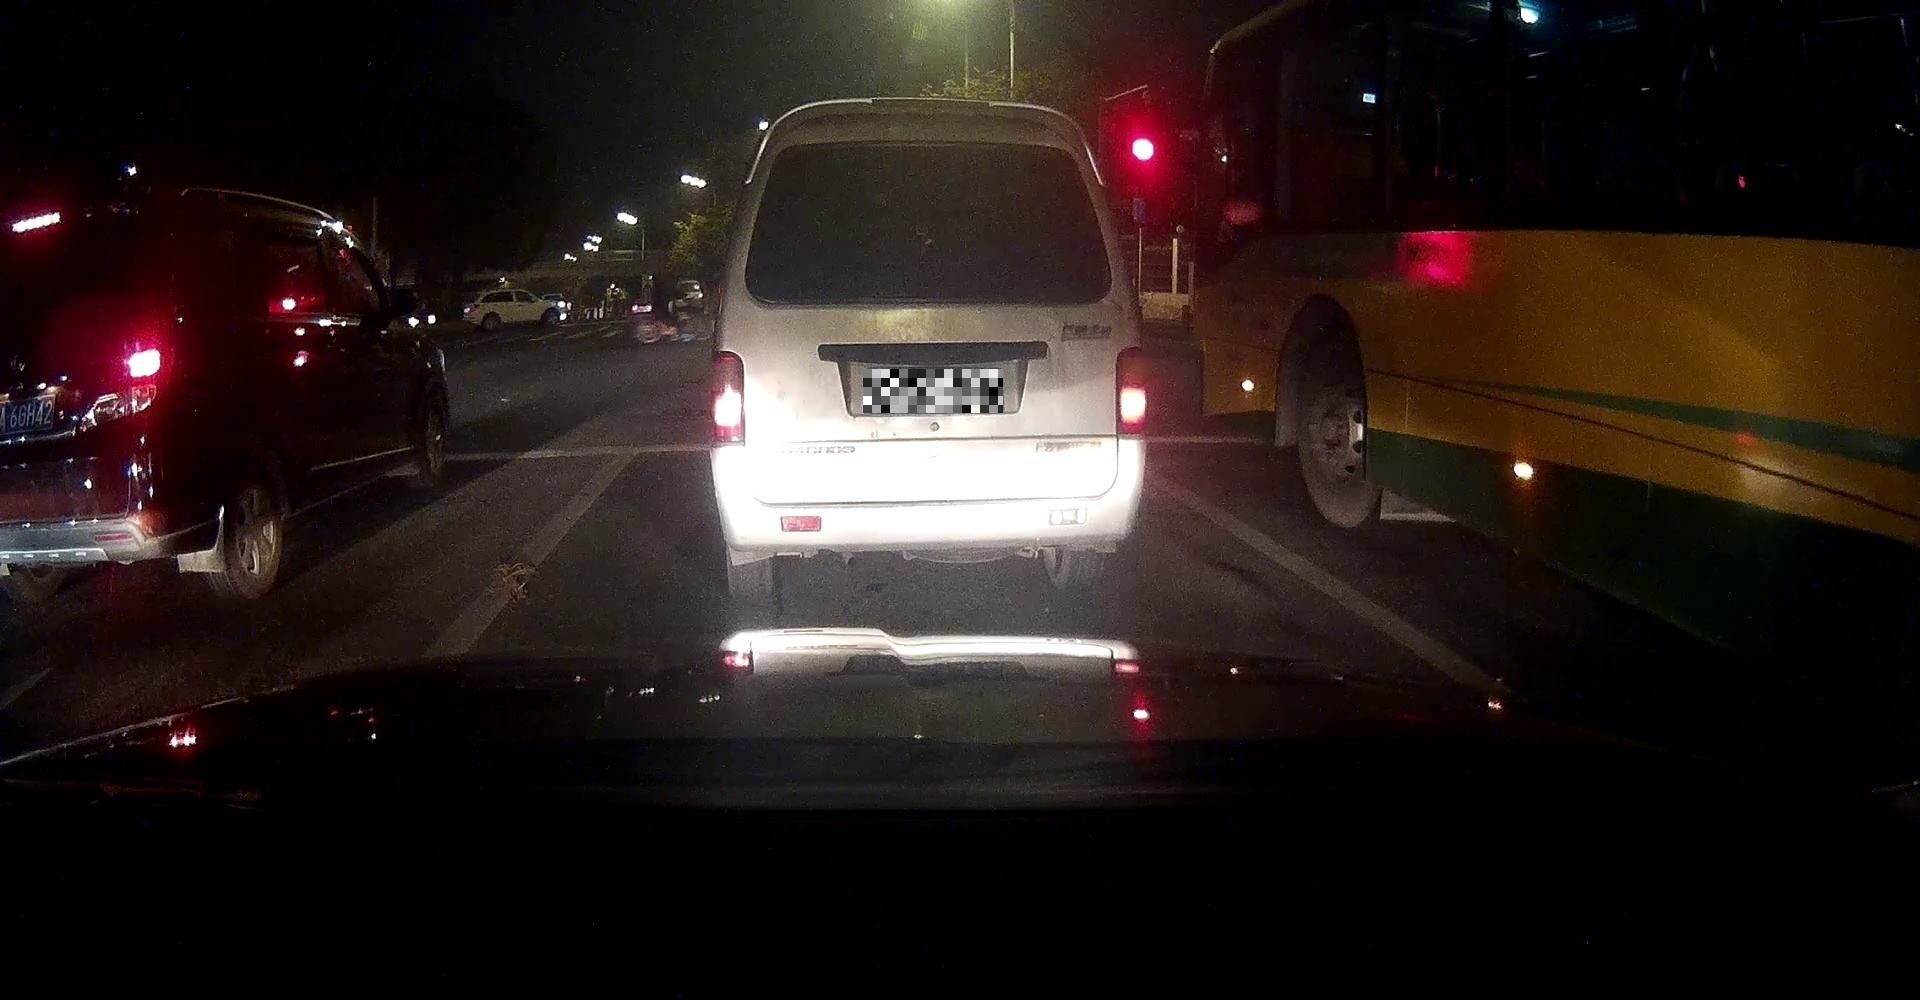L_light: (707, 350, 745, 445)
R_light: (1115, 348, 1148, 437)
T_light: (894, 145, 954, 157)
night-no: (706, 96, 1149, 602)
plate_1: (863, 369, 1003, 412)
